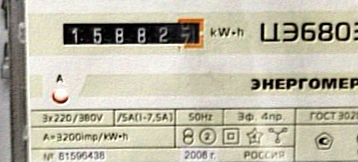1: (69, 26, 79, 44)
2: (157, 25, 168, 43)
5: (91, 27, 102, 44)
7: (179, 33, 190, 44)
8: (112, 26, 124, 44), (135, 26, 146, 44)
screen: (54, 12, 210, 56)
